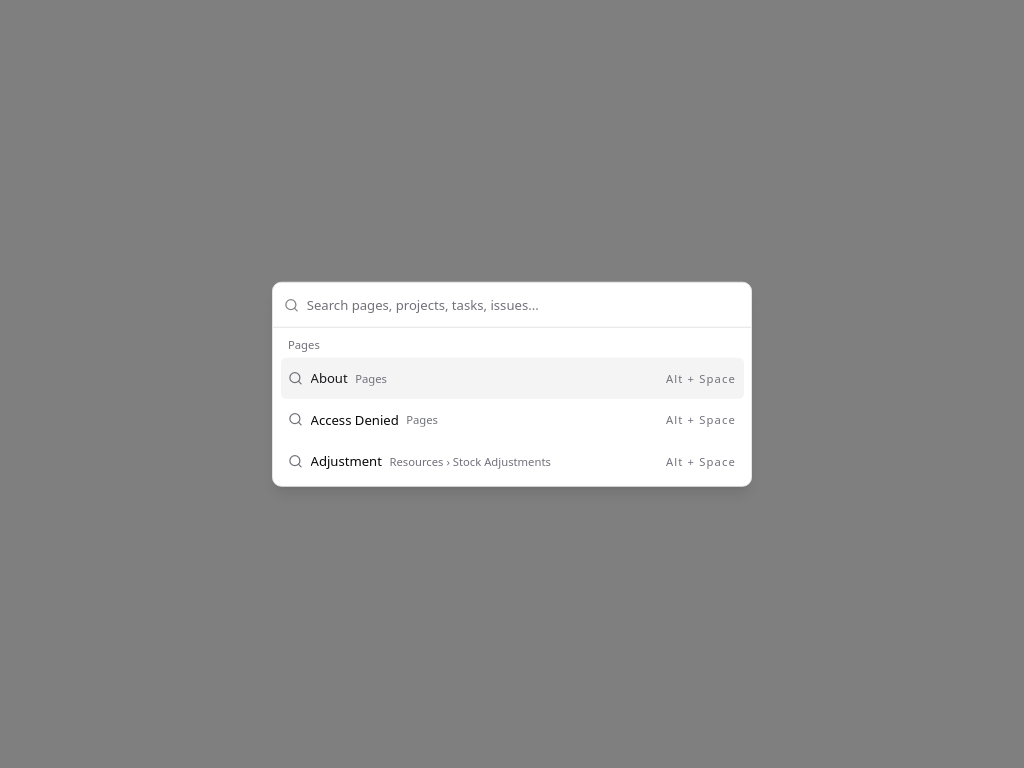
Test case: CommandPalette: searching › finds a project well past the thirtieth match
This screenshot has width=1024, height=768.
Type "zeta" into the dropdown with placeholder "Search pages, projects, tasks, issues..." at point(523, 305), box [307, 282, 740, 327]
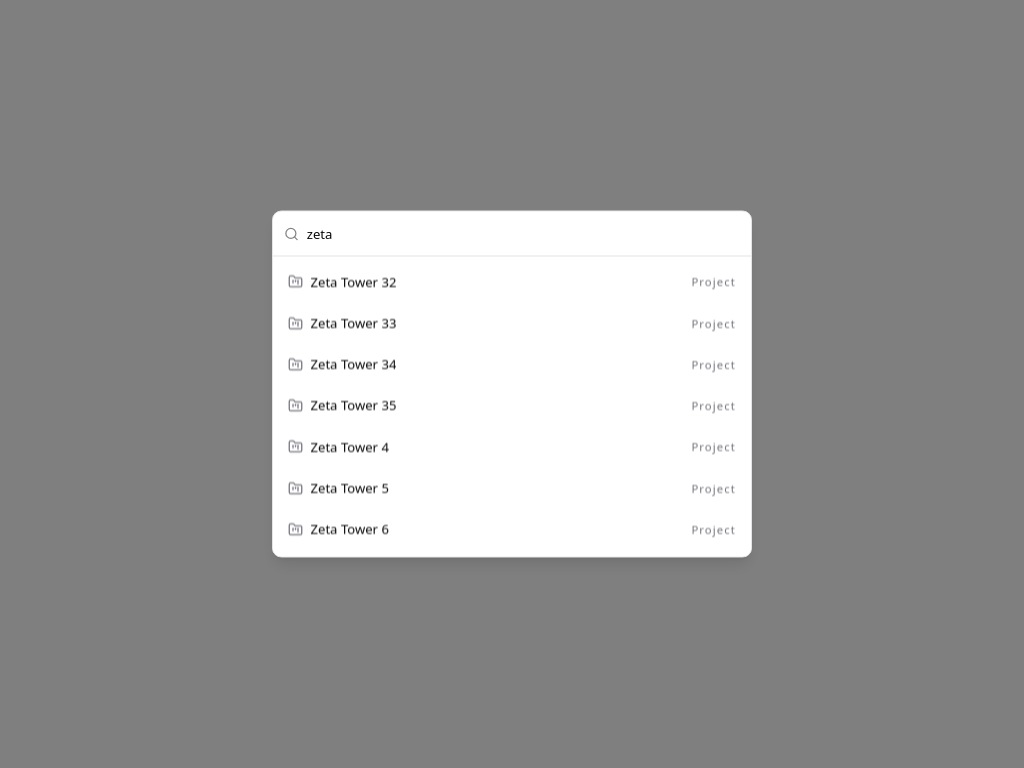
Expected: the text "Zeta Tower 35" is shown, [310, 397, 396, 416]
